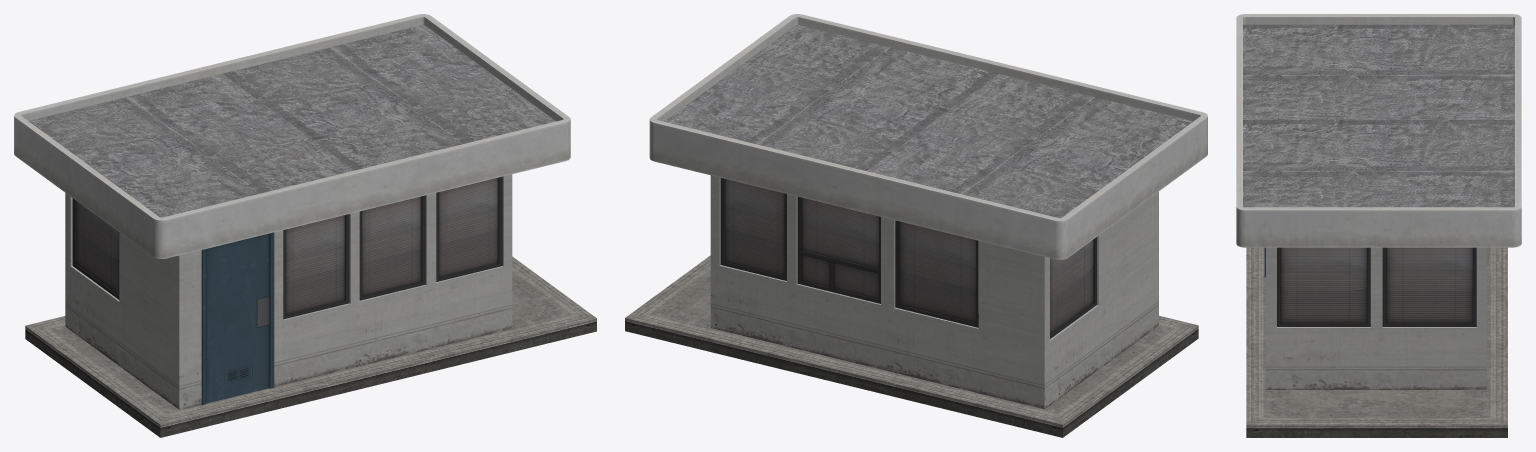
Rendered from Security_Both.FBX.
3 renders of one model, left to right at view 1: azimuth 30°, elevation 25°; view 2: azimuth 150°, elevation 25°; view 3: azimuth 270°, elevation 25°, orthographic. The views are drawn at different scales.
Visible parts, largest first — view 1: secuirityBooth; view 2: secuirityBooth; view 3: secuirityBooth.
Boxes of the visible parts, <box> form: secuirityBooth: <box>14,14,596,437</box>; secuirityBooth: <box>625,14,1207,437</box>; secuirityBooth: <box>1236,14,1521,437</box>.
Bounding box in the file's own units: 660 × 315 × 380.
1 material, 1 textured.
